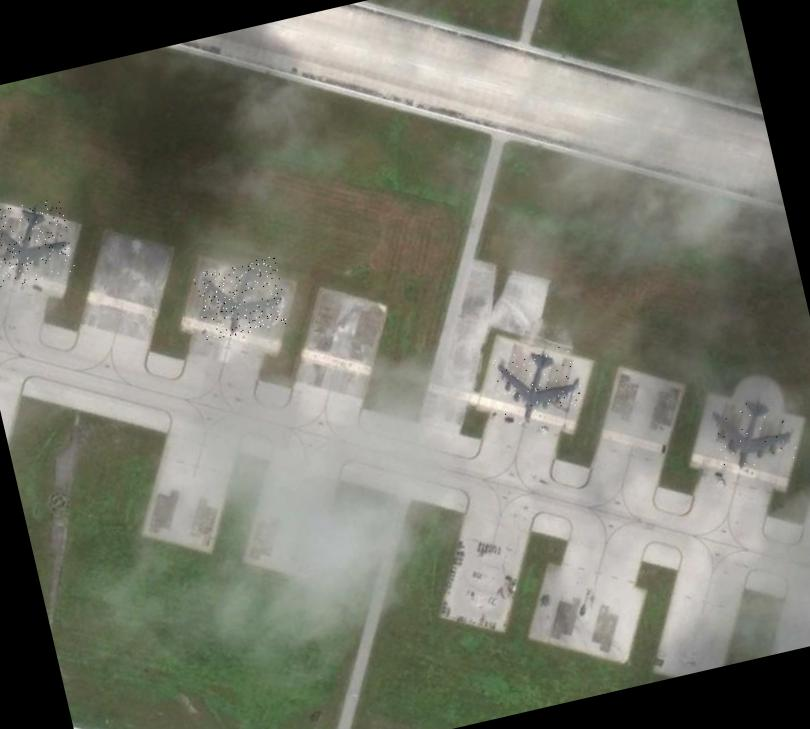A8: (191, 255, 290, 341), (492, 340, 585, 426), (704, 392, 799, 474), (0, 194, 76, 288)
